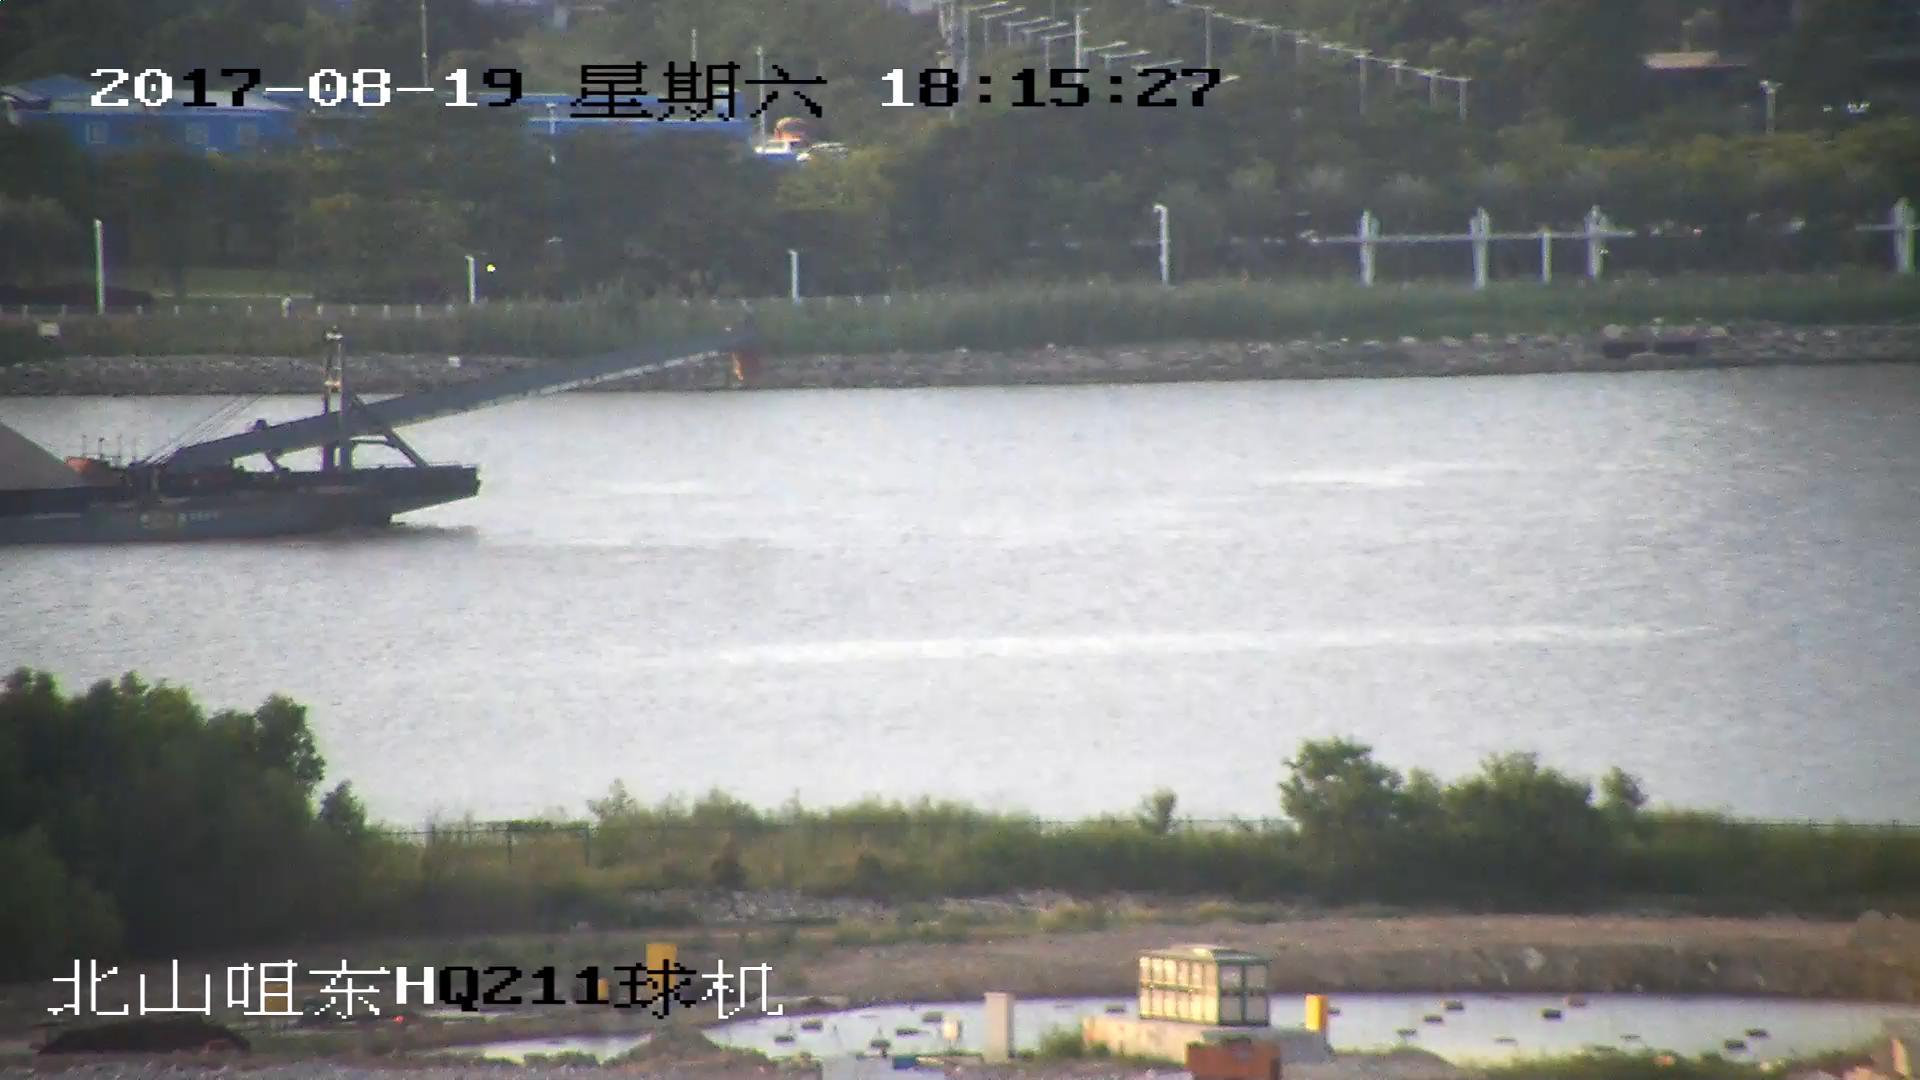Ship: (3, 320, 750, 543)
